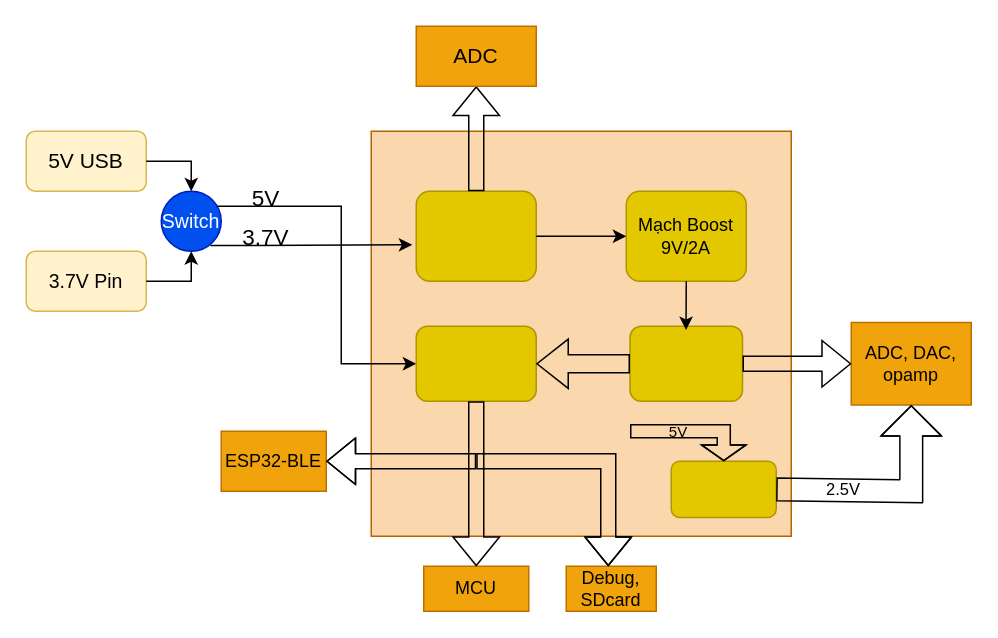
The diagram is 998 pixels wide and 638 high, and some of its shapes have lost their labels. Each missing label, with the centre of its shape:
"IC REG Linear 3.3V/1A" goes at [475,363].
"IC REG Linear 5V/150mA" goes at [685,363].
"IC VREF SUPPLY" goes at [723,489].
"Mạch sạc và bảo vệ pin" goes at [475,235].
